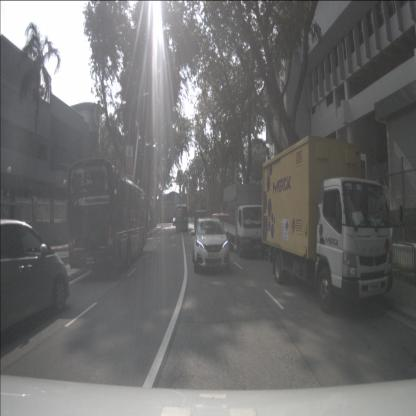vehicle-bus-rigid: (68, 159, 147, 274), (176, 205, 188, 233)
vehicle-car: (0, 219, 70, 343), (192, 218, 230, 272), (212, 213, 234, 243), (172, 217, 178, 226)
vehicle-truck: (262, 135, 393, 315), (223, 184, 270, 258), (194, 210, 207, 229)
